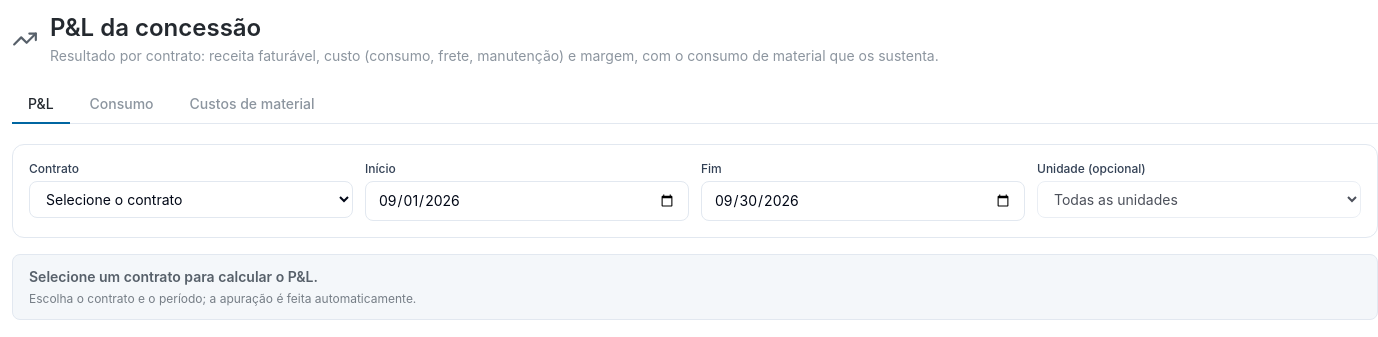
Test case: PnlPage › shows an error state when the P&L request fails
The image size is (1378, 337).
Select "Contrato Alfa — Hospital X" in the dropdown labelled "Contrato" at [191, 200], box x1=29 y1=181 x2=353 y2=218
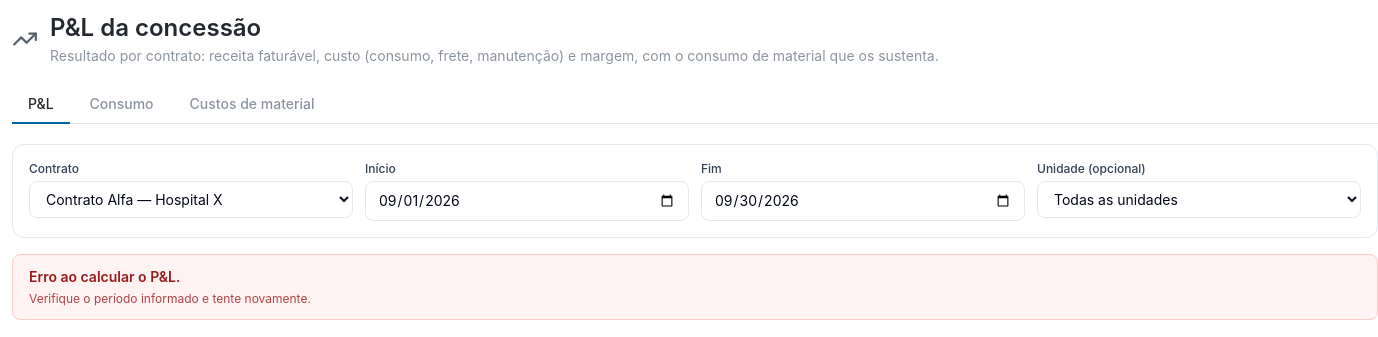
Expected: the text "Erro ao calcular o P&L." is shown, x1=29 y1=268 x2=180 y2=285
